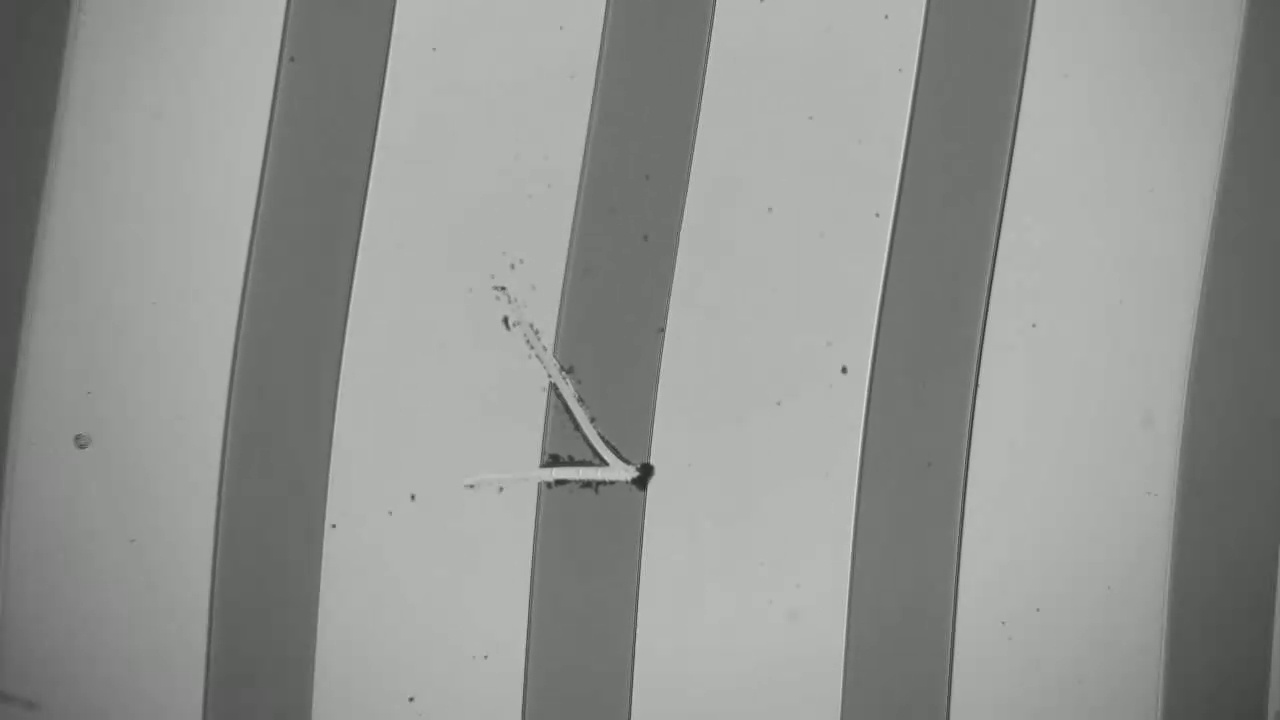Short_circuit: (504, 449, 677, 514)
